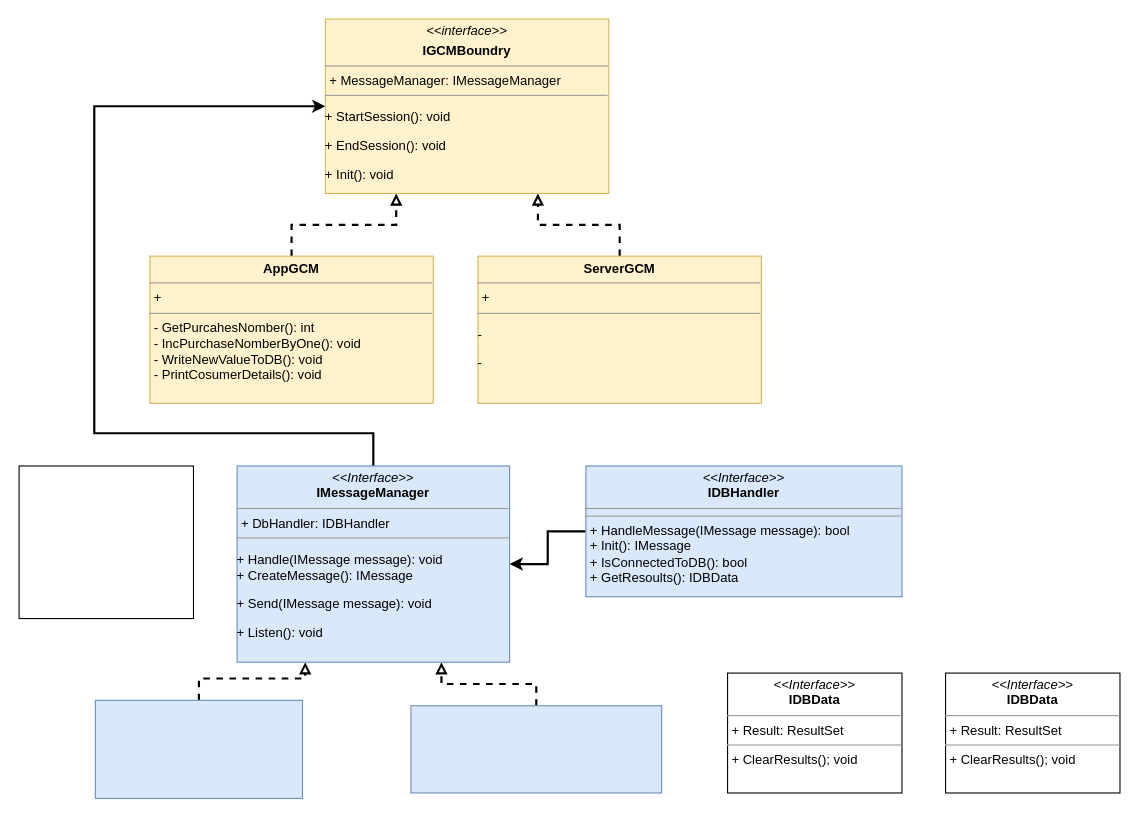
The diagram is 1139 pixels wide and 818 high, and some of its shapes have lost their labels. The centre of each missing label's shape, as x and y in pixels:
"<<Interface>> IMessage + Content: String + MessageID: Int + ToString: String" belongs at (x=105, y=542).
"ClientMessageManager + Chat: ClientChat + Console :ClientConsole" belongs at (x=198, y=748).
"ServerMessageManager - Echo: EchoServer - Server: ServerConsole" belongs at (x=536, y=749).
